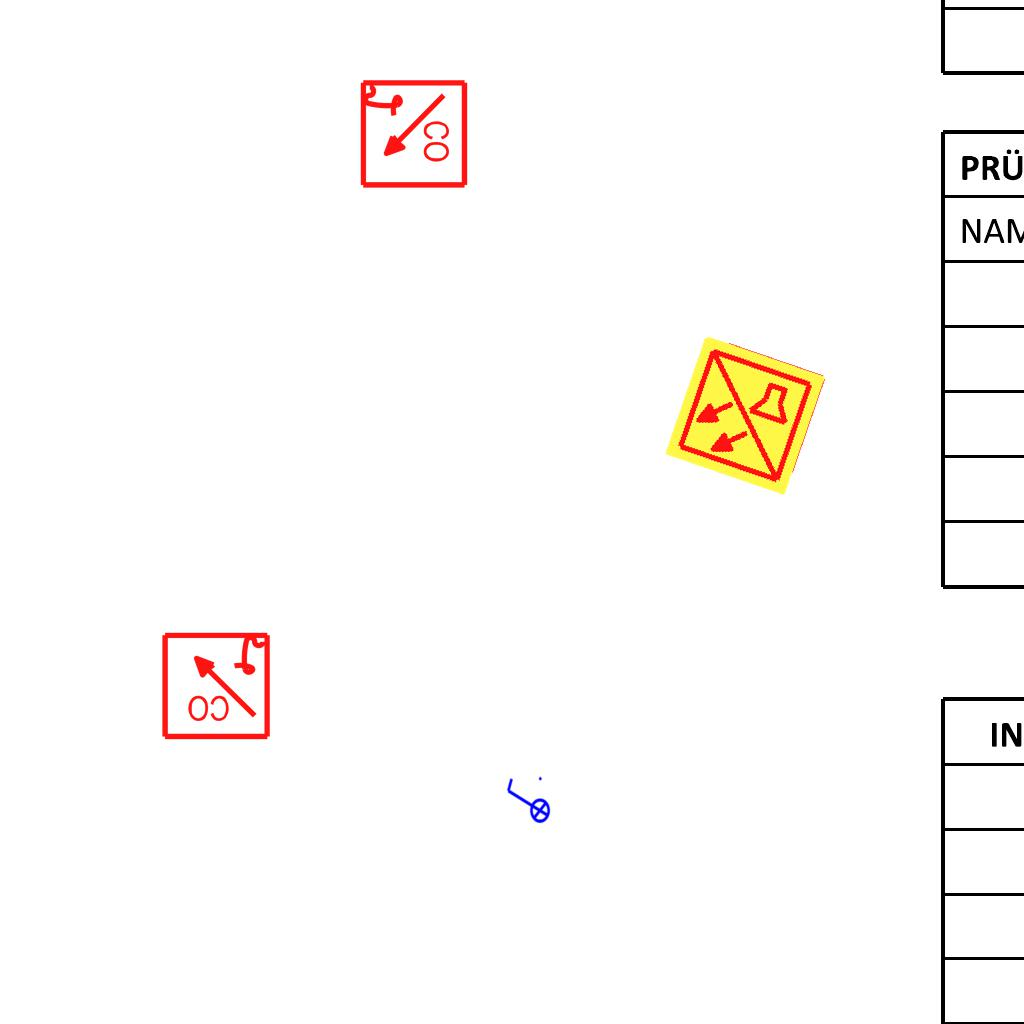Ausschalter_beleuchtet: (503, 774, 551, 830)
OKW_Multisensormelder_(Kombination_optischer_Rauch-Kahlenmonoxid_Waerme-Melder): (661, 331, 829, 499)
ROA_Rauchmelder_optisch_mit_Signalgeber_(Sockelsirene): (356, 78, 469, 191), (159, 628, 272, 741)
